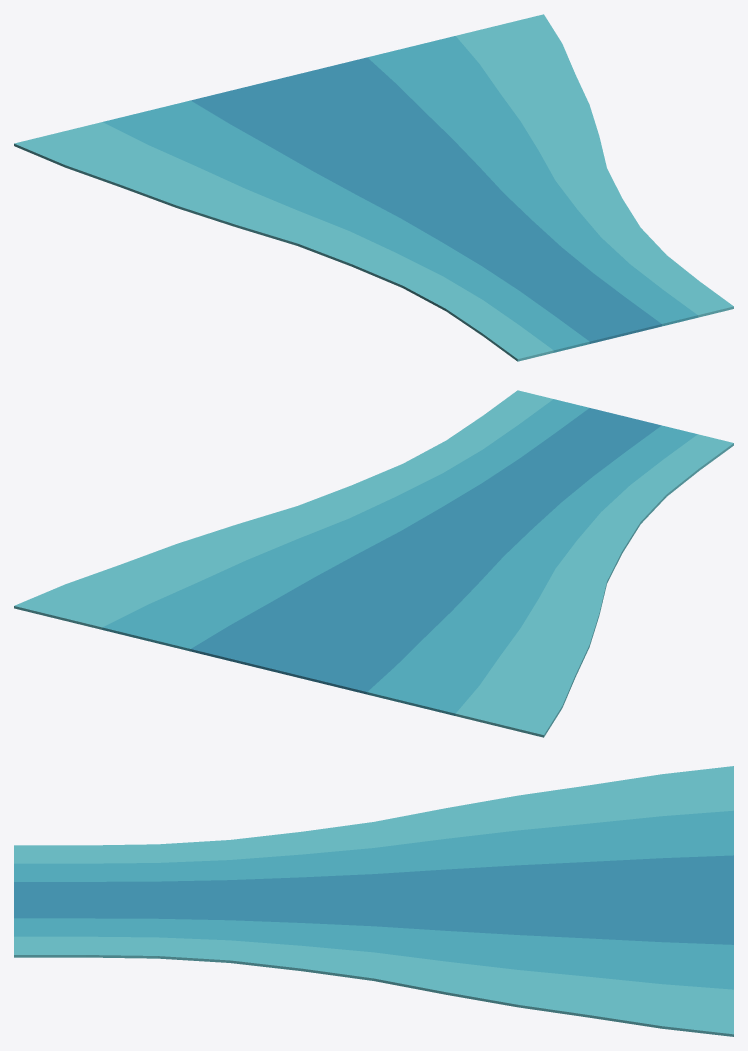
3 renders of one model, top to bottom at view 1: azimuth 30°, elevation 25°; view 2: azimuth 150°, elevation 25°; view 3: azimuth 270°, elevation 25°, orthographic. The views are drawn at different scales.
Parts seen in each view (by area): view 1: 渐宽河口_六层水色.001; view 2: 渐宽河口_六层水色.001; view 3: 渐宽河口_六层水色.001.
Part boxes in pixels (left/top/right/bottom): 渐宽河口_六层水色.001: left=14, top=14, right=733, bottom=361; 渐宽河口_六层水色.001: left=14, top=390, right=733, bottom=737; 渐宽河口_六层水色.001: left=14, top=766, right=733, bottom=1036.
Size of the model in its own units: 1.76 by 0.008 by 2.
